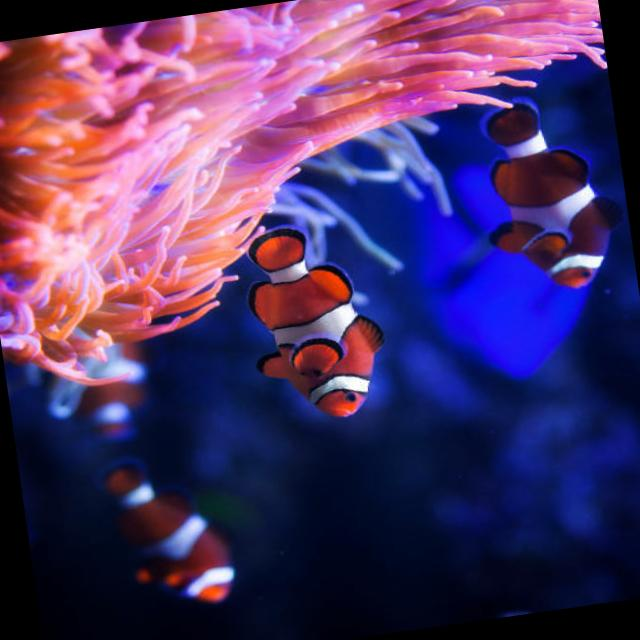ClownFish: (234, 219, 393, 431), (467, 95, 625, 302), (98, 456, 243, 614), (58, 316, 171, 444)
